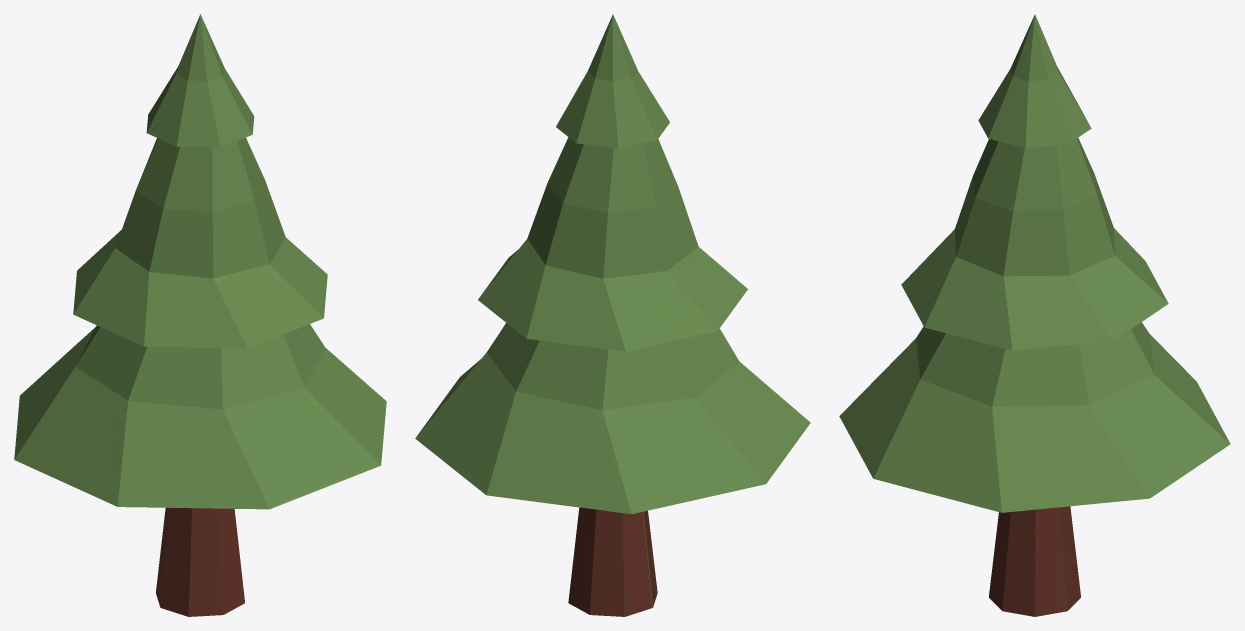
The model's file is tree.glb.
3 renders of one model, left to right at view 1: azimuth 30°, elevation 25°; view 2: azimuth 150°, elevation 25°; view 3: azimuth 270°, elevation 25°, orthographic.
Visible parts, largest first — view 1: Tree.002; view 2: Tree.002; view 3: Tree.002.
Part boxes in pixels (x1=…): Tree.002: x1=14, y1=14, x2=386, y2=616; Tree.002: x1=415, y1=14, x2=810, y2=616; Tree.002: x1=839, y1=14, x2=1230, y2=616.
Size of the model in its own units: 0.5734 by 0.9431 by 0.5734.
1 material, 1 textured.
